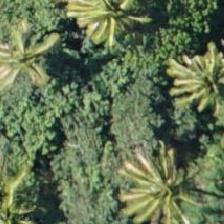coconut_tree: (115, 146, 205, 223), (0, 18, 68, 108), (161, 37, 223, 127), (64, 0, 154, 59), (0, 174, 45, 223)
